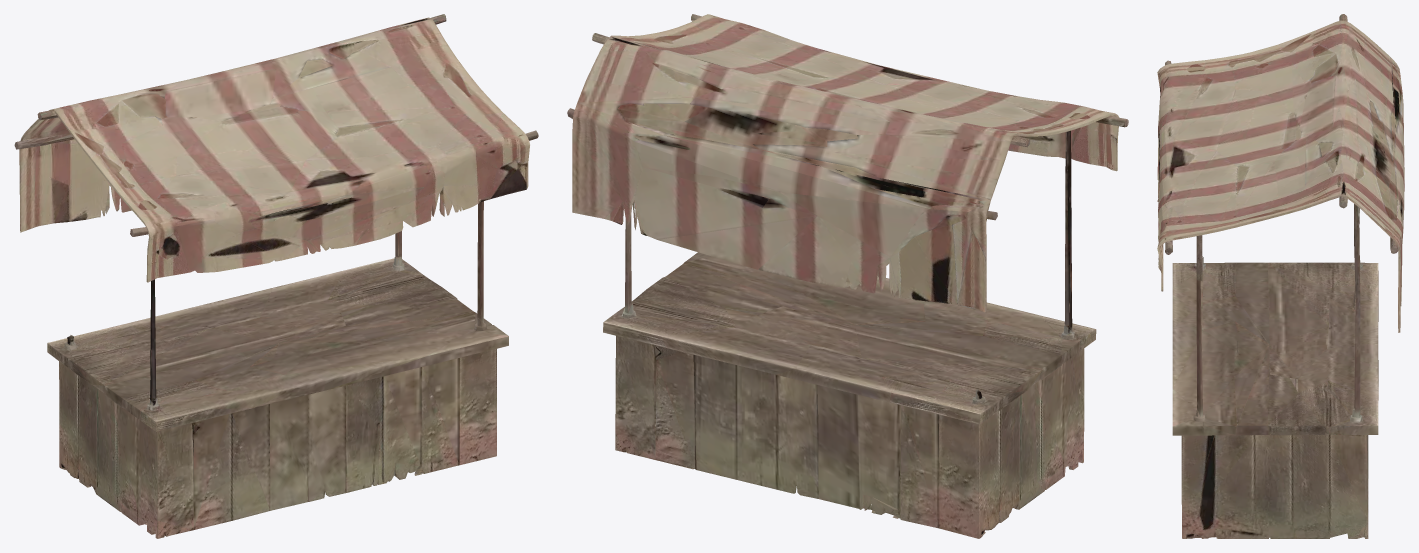
The model's file is market_stall.glb.
The picture shows the model from 3 angles, left to right: view 1: azimuth 30°, elevation 25°; view 2: azimuth 150°, elevation 25°; view 3: azimuth 270°, elevation 25°; orthographic projection. The views are drawn at different scales.
Visible parts, largest first — view 1: Mesh_0; view 2: Mesh_0; view 3: Mesh_0.
Part boxes in pixels (box(x1,y1,x2,y2)): Mesh_0: box(14, 14, 538, 538); Mesh_0: box(567, 14, 1128, 538); Mesh_0: box(1157, 14, 1404, 538).
Bounding box in the file's own units: 1.9 × 1.67 × 1.06.
Materials: 1 (1 with a texture image).
